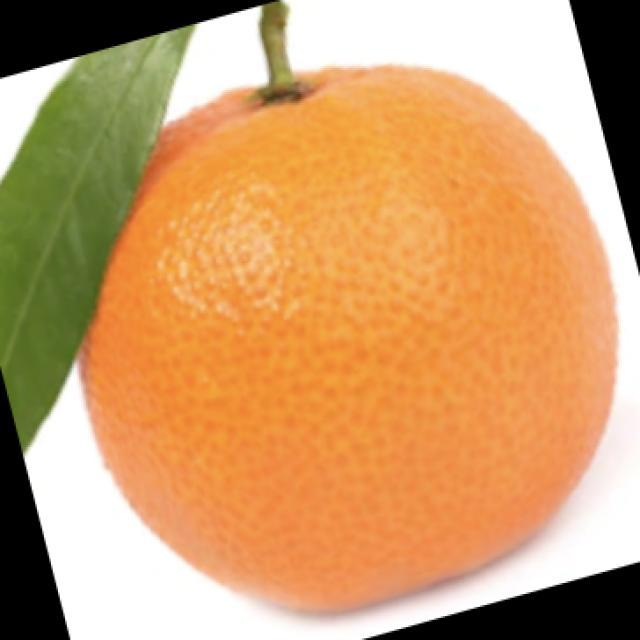matang: (84, 66, 616, 609)
